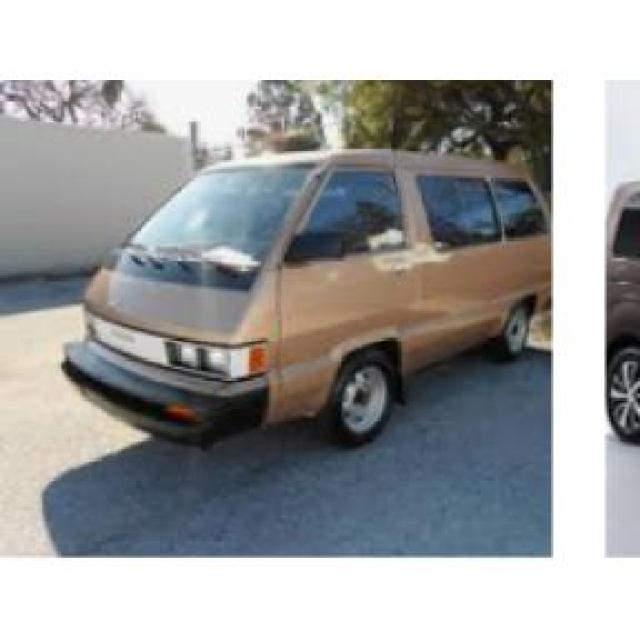Van: (62, 142, 552, 440)
